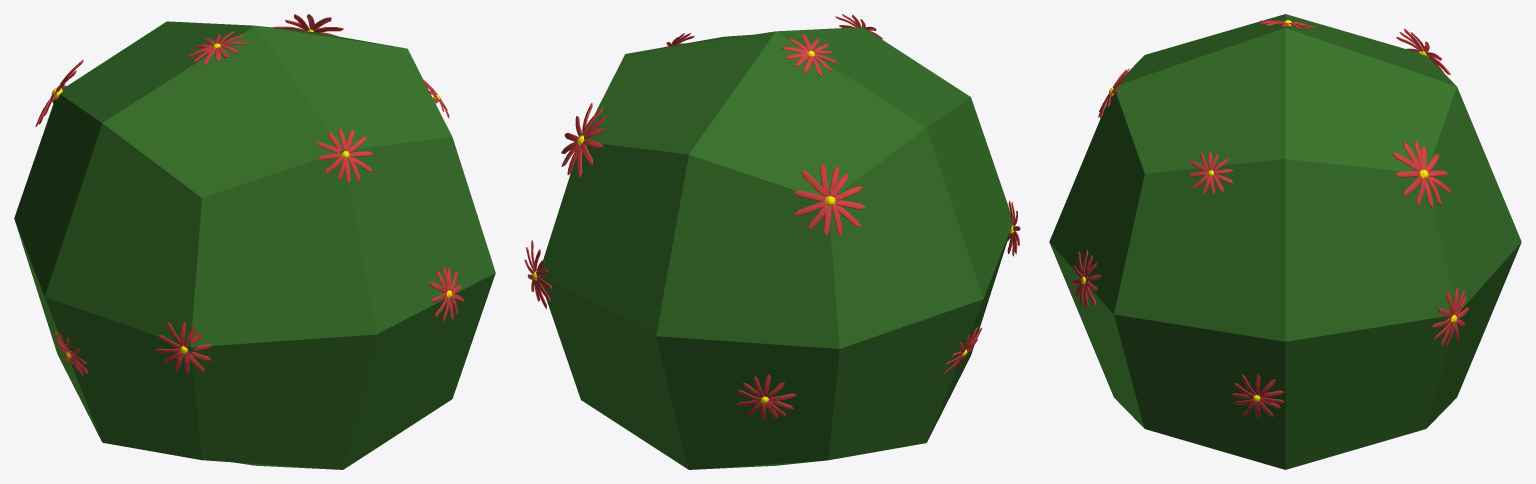
File: arbusto_flores_rojas.fbx
The picture shows the model from 3 angles, left to right: view 1: azimuth 30°, elevation 25°; view 2: azimuth 150°, elevation 25°; view 3: azimuth 270°, elevation 25°; orthographic projection. The views are drawn at different scales.
Visible parts, largest first — view 1: Cube.188; view 2: Cube.188; view 3: Cube.188.
Boxes of the visible parts, x1,y1,x2,y2 form: Cube.188: (14,14,495,469); Cube.188: (524,14,1020,469); Cube.188: (1049,14,1521,469).
Size of the model in its own units: 168 by 168 by 168.
